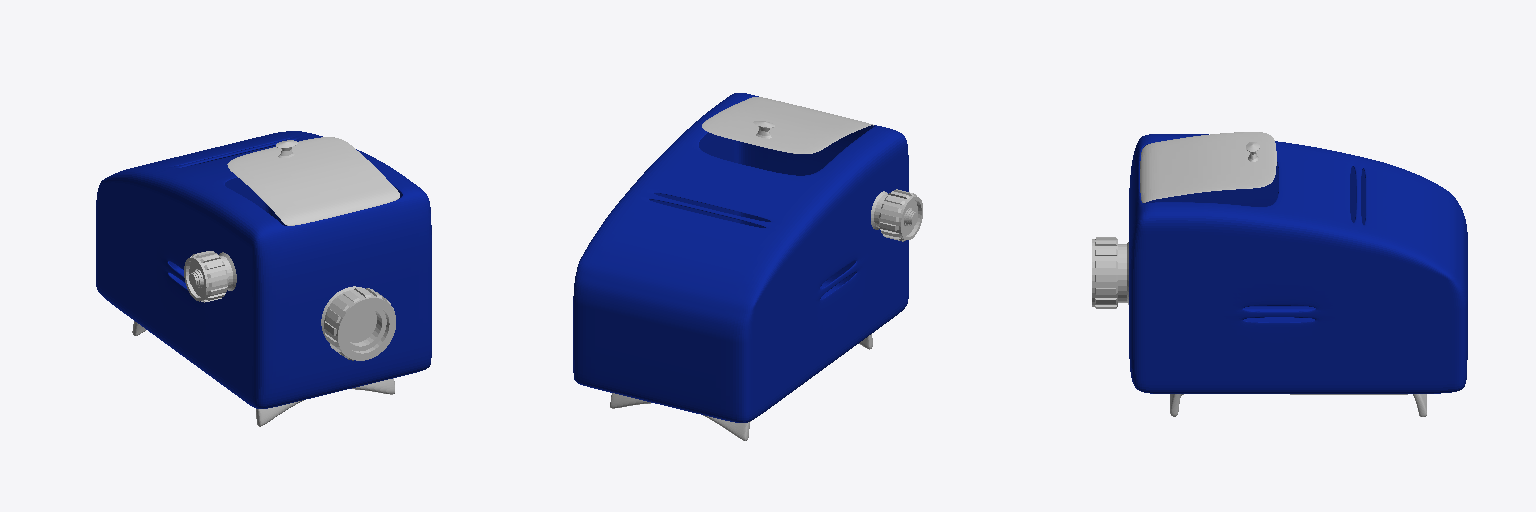
The model's file is vetito.obj.
3 views of the same model, side by side, from view 1: azimuth 30°, elevation 25°; view 2: azimuth 150°, elevation 25°; view 3: azimuth 270°, elevation 25° (orthographic).
Parts seen in each view (by area): view 1: vetito_Cube.004, tetonyilas_Cube.005, lencse_Cylinder.001, tekero_Cylinder.004, talp_Plane.003; view 2: vetito_Cube.004, tetonyilas_Cube.005, tekero_Cylinder.004, talp_Plane.003; view 3: vetito_Cube.004, tetonyilas_Cube.005, lencse_Cylinder.001, talp_Plane.003.
Boxes of the visible parts, x1=… form: vetito_Cube.004: x1=96, y1=131, x2=431, y2=408; tetonyilas_Cube.005: x1=227, y1=137, x2=399, y2=225; lencse_Cylinder.001: x1=321, y1=286, x2=395, y2=360; tekero_Cylinder.004: x1=184, y1=251, x2=236, y2=302; talp_Plane.003: x1=132, y1=321, x2=394, y2=426; vetito_Cube.004: x1=573, y1=93, x2=908, y2=422; tetonyilas_Cube.005: x1=702, y1=97, x2=873, y2=153; tekero_Cylinder.004: x1=871, y1=189, x2=922, y2=241; talp_Plane.003: x1=610, y1=334, x2=872, y2=440; vetito_Cube.004: x1=1129, y1=134, x2=1467, y2=393; tetonyilas_Cube.005: x1=1140, y1=132, x2=1276, y2=202; lencse_Cylinder.001: x1=1092, y1=237, x2=1128, y2=308; talp_Plane.003: x1=1170, y1=394, x2=1426, y2=416.
Size of the model in its own units: 0.2896 by 0.3155 by 0.4473.